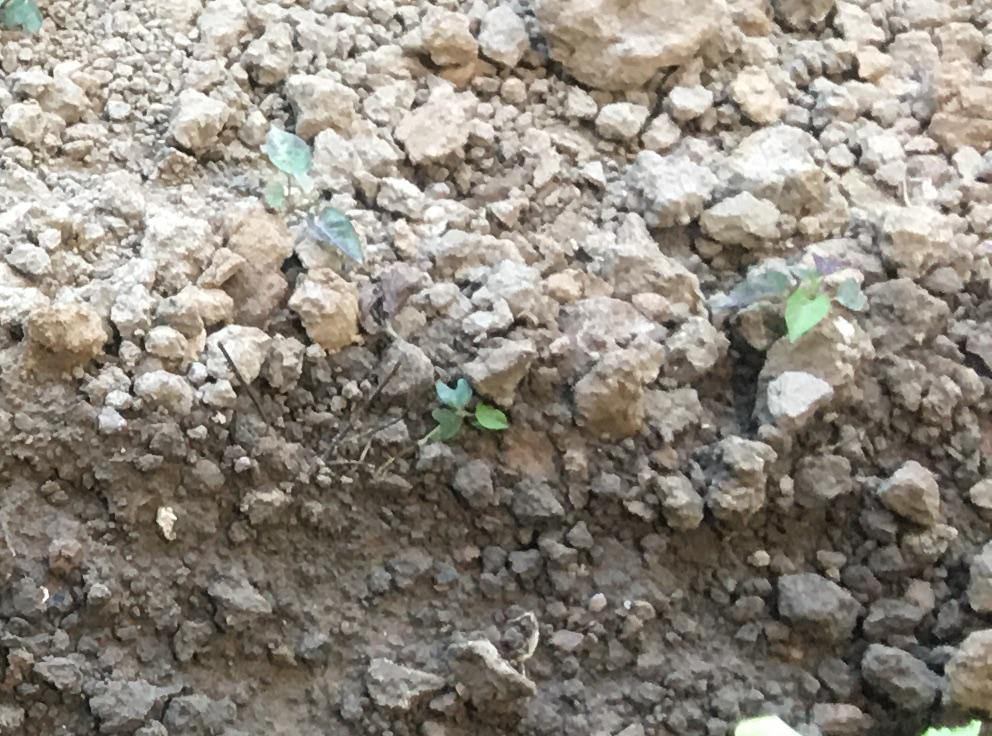block: (537, 1, 735, 89), (712, 124, 822, 212)
